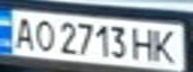1: (90, 21, 112, 57)
2: (54, 18, 78, 55)
3: (109, 22, 130, 60)
7: (75, 20, 96, 56)
A: (6, 13, 39, 51)
H: (130, 25, 160, 62)
K: (151, 26, 184, 65)
O: (30, 17, 57, 53)
